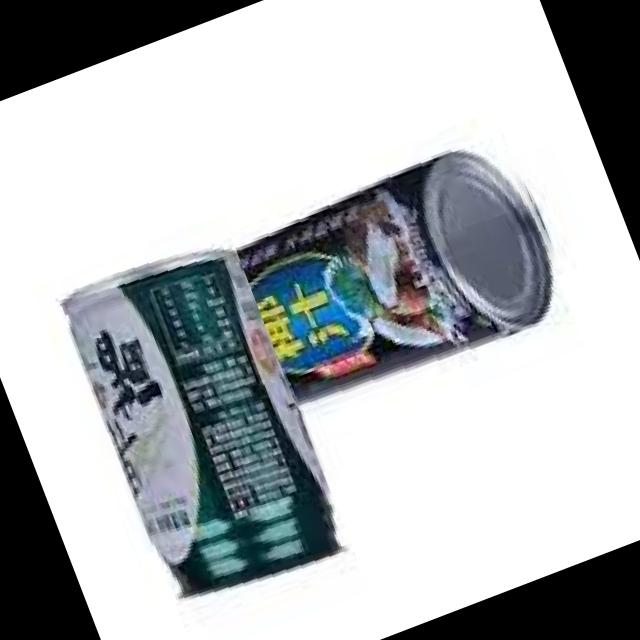Cans: (41, 224, 372, 638), (228, 124, 584, 426)
